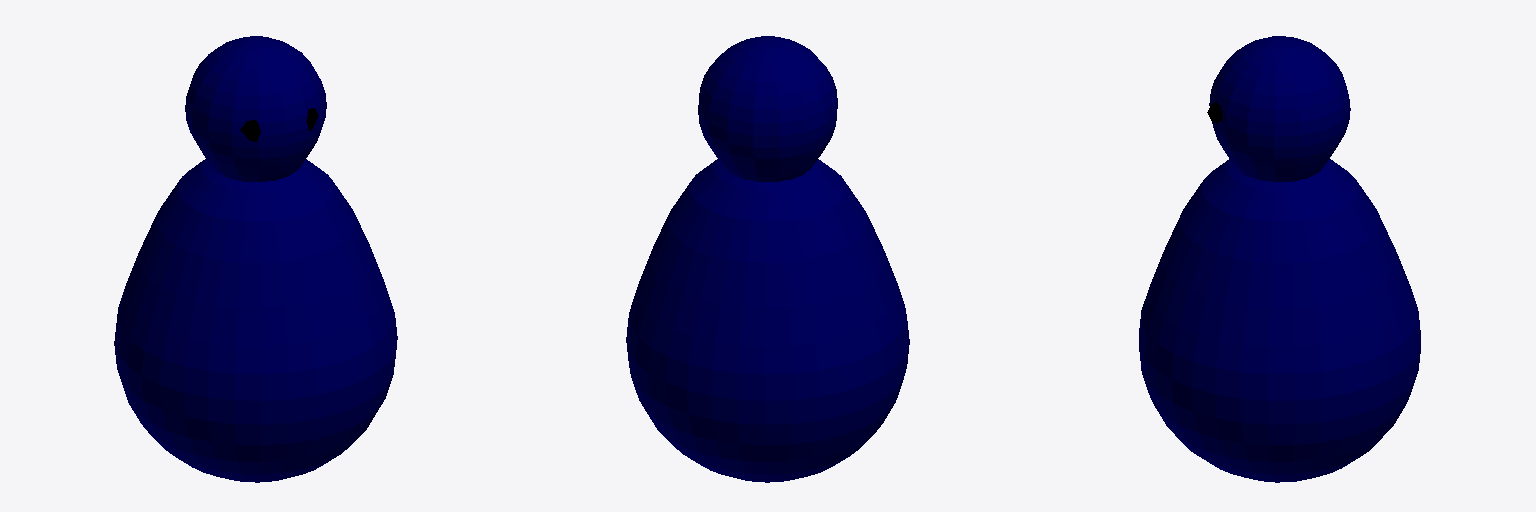
Rendered from blob.obj.
The picture shows the model from 3 angles: view 1: azimuth 30°, elevation 25°; view 2: azimuth 150°, elevation 25°; view 3: azimuth 270°, elevation 25°; orthographic projection.
Parts seen in each view (by area): view 1: Sphere.003_Sphere.004; view 2: Sphere.003_Sphere.004; view 3: Sphere.003_Sphere.004.
Boxes of the visible parts, box(x1,y1,x2,y2) form: Sphere.003_Sphere.004: box(114, 36, 397, 482); Sphere.003_Sphere.004: box(626, 36, 909, 482); Sphere.003_Sphere.004: box(1139, 36, 1420, 482).
Bounding box in the file's own units: 1.99 × 3.32 × 1.99.